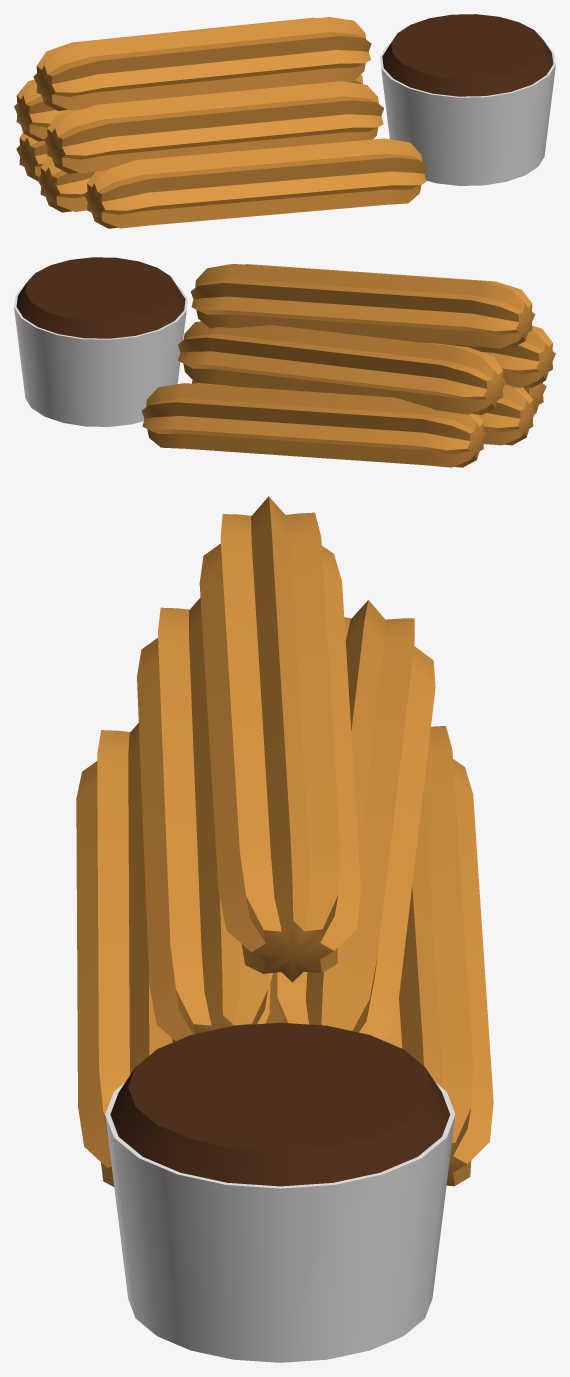
The model's file is Churros.fbx.
3 renders of one model, top to bottom at view 1: azimuth 30°, elevation 25°; view 2: azimuth 150°, elevation 25°; view 3: azimuth 270°, elevation 25°, orthographic. The views are drawn at different scales.
Parts seen in each view (by area): view 1: Churros; view 2: Churros; view 3: Churros.
Part boxes in pixels (<box>): Churros: <box>14,14,555,228</box>; Churros: <box>14,257,555,467</box>; Churros: <box>76,496,493,1362</box>.
Bounding box in the file's own units: 0.2301 × 0.089 × 0.0822.
